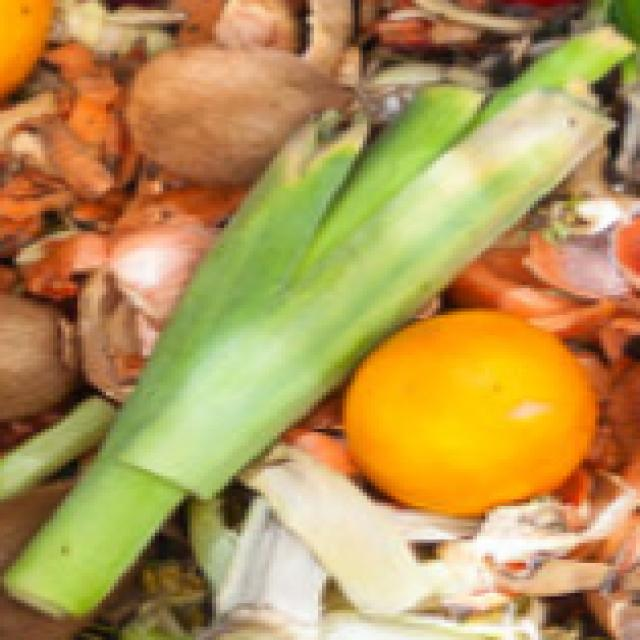food waste: (18, 0, 640, 616)
